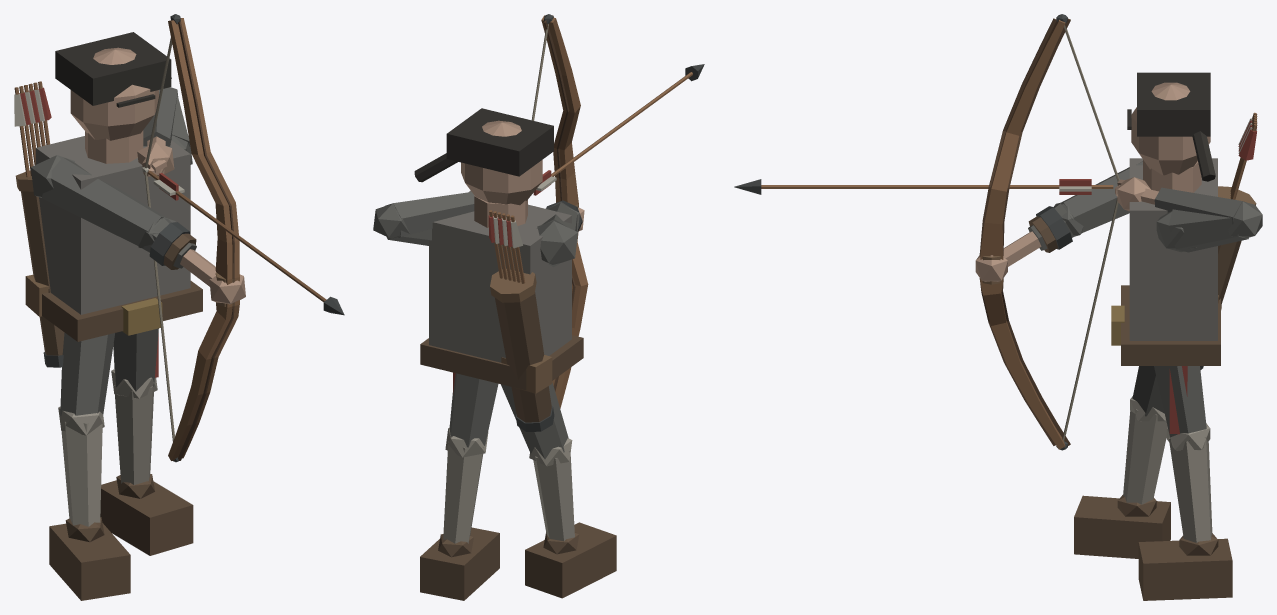
The model's file is chr_f1_archer_pixel_v005.glb.
3 renders of one model, left to right at view 1: azimuth 30°, elevation 25°; view 2: azimuth 150°, elevation 25°; view 3: azimuth 270°, elevation 25°, orthographic. The views are drawn at different scales.
Parts seen in each view (by area): view 1: ARCHER_V005_Source_Torso, ARCHER_V005_Bow_ContinuousDArc, ARCHER_V005_Source_HeadWrap, ARCHER_V005_Boot_R, ARCHER_V005_Arm_R_Upper, ARCHER_V005_Boot_L, ARCHER_V005_Source_Head, ARCHER_V005_Leg_L_Thigh, ARCHER_V005_Source_Belt, ARCHER_V005_Leg_L_Shin, ARCHER_V005_Leg_R_Shin, ARCHER_V005_QuiverBody (+18 smaller); view 2: ARCHER_V005_Source_Torso, ARCHER_V005_Source_HeadWrap, ARCHER_V005_Boot_L, ARCHER_V005_Bow_ContinuousDArc, ARCHER_V005_QuiverBody, ARCHER_V005_Boot_R, ARCHER_V005_Source_Belt, ARCHER_V005_Source_Head, ARCHER_V005_Leg_R_Shin, ARCHER_V005_Leg_R_Thigh, ARCHER_V005_Leg_L_Shin, ARCHER_V005_Arm_L_Forearm (+14 smaller); view 3: ARCHER_V005_Source_Torso, ARCHER_V005_Bow_ContinuousDArc, ARCHER_V005_Boot_R, ARCHER_V005_Boot_L, ARCHER_V005_Source_HeadWrap, ARCHER_V005_Leg_R_Shin, ARCHER_V005_Source_Belt, ARCHER_V005_Leg_L_Shin, ARCHER_V005_Source_Head, ARCHER_V005_Leg_R_Thigh, ARCHER_V005_Arm_L_Upper, ARCHER_V005_Arm_R_Upper (+12 smaller).
Part boxes in pixels (x1,y1,x2,y2): ARCHER_V005_Source_Torso: (35,136,190,314); ARCHER_V005_Bow_ContinuousDArc: (168,18,239,460); ARCHER_V005_Source_HeadWrap: (55,32,171,105); ARCHER_V005_Boot_R: (100,480,193,555); ARCHER_V005_Arm_R_Upper: (42,157,167,245); ARCHER_V005_Boot_L: (49,523,130,600); ARCHER_V005_Source_Head: (70,47,158,140); ARCHER_V005_Leg_L_Thigh: (60,332,114,415); ARCHER_V005_Source_Belt: (42,281,202,341); ARCHER_V005_Leg_L_Shin: (61,418,102,526); ARCHER_V005_Leg_R_Shin: (114,385,153,484); ARCHER_V005_QuiverBody: (21,191,64,355); ARCHER_V005_Source_Torso: (429,190,571,362); ARCHER_V005_Source_HeadWrap: (446,108,553,176); ARCHER_V005_Boot_L: (525,522,616,598); ARCHER_V005_Bow_ContinuousDArc: (541,15,588,408); ARCHER_V005_QuiverBody: (495,292,551,422); ARCHER_V005_Boot_R: (420,527,499,600); ARCHER_V005_Source_Belt: (420,335,583,390); ARCHER_V005_Source_Head: (461,120,542,205); ARCHER_V005_Leg_R_Shin: (443,442,483,543); ARCHER_V005_Leg_R_Thigh: (449,373,498,447); ARCHER_V005_Leg_L_Shin: (533,450,574,541); ARCHER_V005_Arm_L_Forearm: (385,192,474,237); ARCHER_V005_Source_Torso: (1129,158,1217,340); ARCHER_V005_Bow_ContinuousDArc: (980,19,1065,449); ARCHER_V005_Boot_R: (1138,538,1232,600); ARCHER_V005_Boot_L: (1074,495,1170,558); ARCHER_V005_Source_HeadWrap: (1137,72,1210,136); ARCHER_V005_Leg_R_Shin: (1168,437,1212,542); ARCHER_V005_Source_Belt: (1121,285,1220,365); ARCHER_V005_Leg_L_Shin: (1123,409,1167,504); ARCHER_V005_Source_Head: (1131,82,1210,175); ARCHER_V005_Leg_R_Thigh: (1154,366,1206,440); ARCHER_V005_Arm_L_Upper: (1168,209,1248,252); ARCHER_V005_Arm_R_Upper: (1061,161,1142,232).
Bounding box in the file's own units: 0.687 × 2.1 × 1.8.
